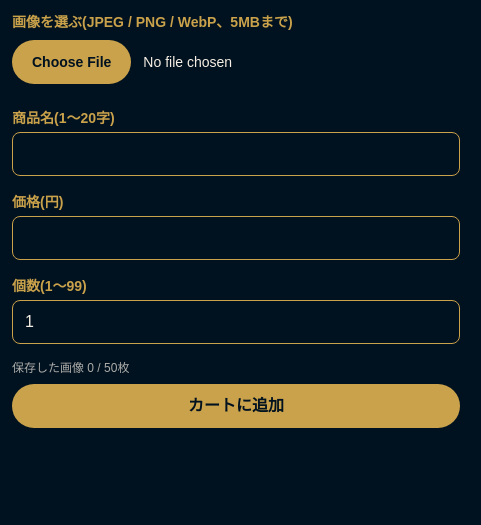
it: UploadForm(送信の検証) › 何も入力せずに送信すると、画像・商品名・価格のエラーを出し、カートに入れない
Click the button "カートに追加" at x=236, y=406, box [12, 384, 460, 428]
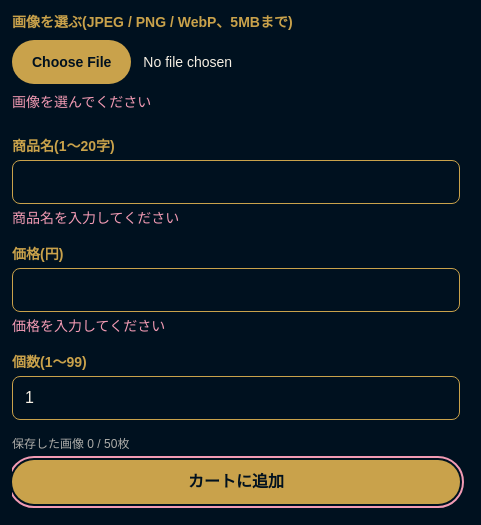
Expected: the text "画像を選んでください" is shown, [12, 94, 151, 110]
Expected: the text "商品名を入力してください" is shown, [12, 210, 179, 226]
Expected: the text "価格を入力してください" is shown, [12, 318, 165, 334]
